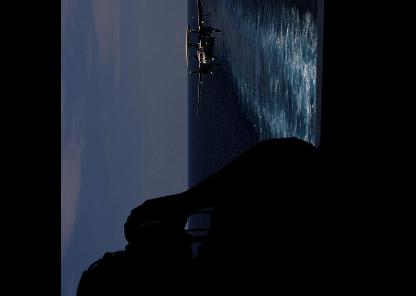C5: (183, 0, 221, 117)
